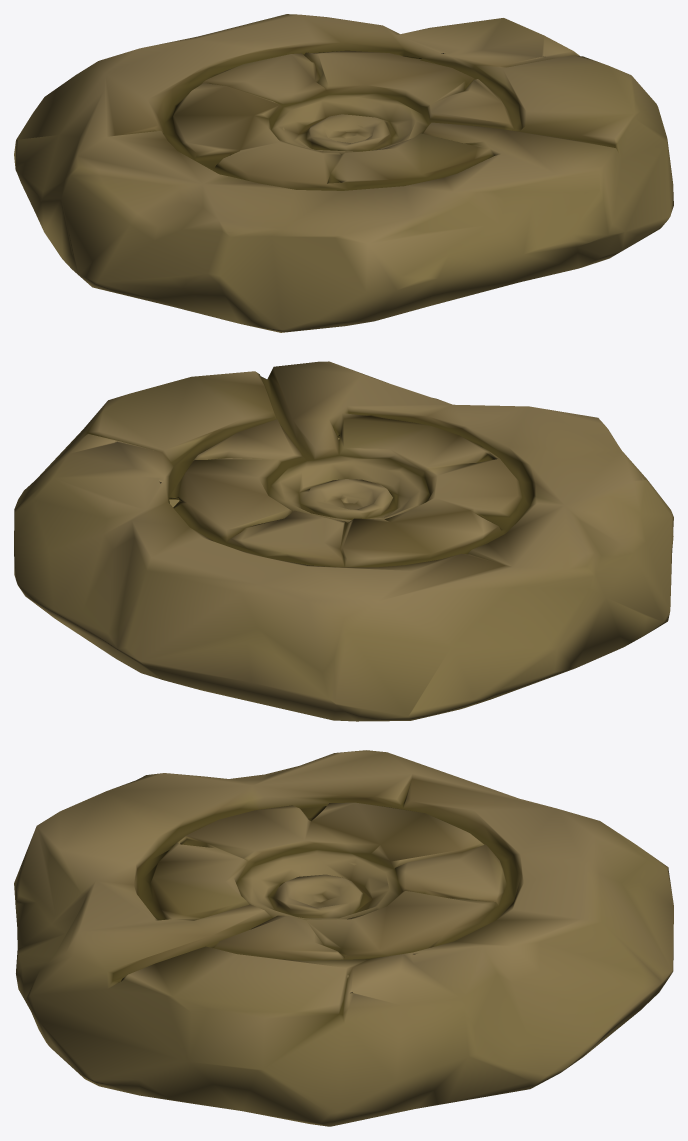
The model's file is gen3d-fossil-lod1.glb.
3 views of the same model, one above another, from view 1: azimuth 30°, elevation 25°; view 2: azimuth 150°, elevation 25°; view 3: azimuth 270°, elevation 25° (orthographic). The views are drawn at different scales.
Visible parts, largest first — view 1: part_0; view 2: part_0; view 3: part_0.
Boxes of the visible parts, x1,y1,x2,y2 form: part_0: (14,14,673,332); part_0: (14,361,673,721); part_0: (14,750,673,1126).
Size of the model in its own units: 7.34 by 0.9979 by 6.54.
